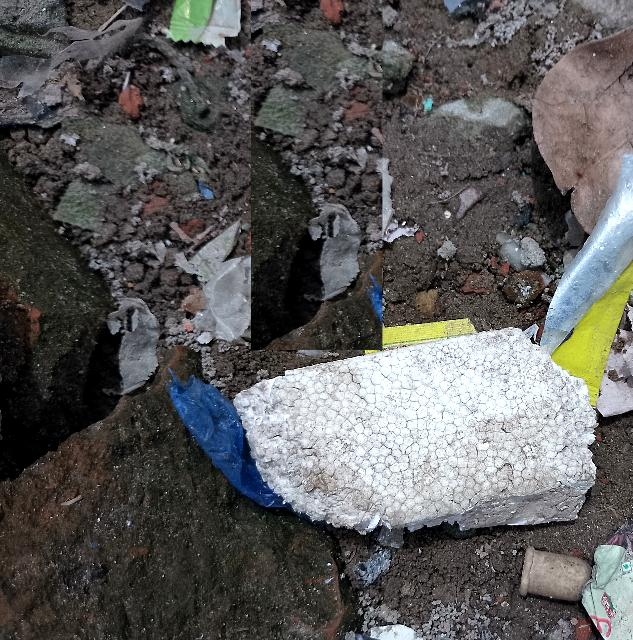cocksheet: (236, 321, 607, 532)
